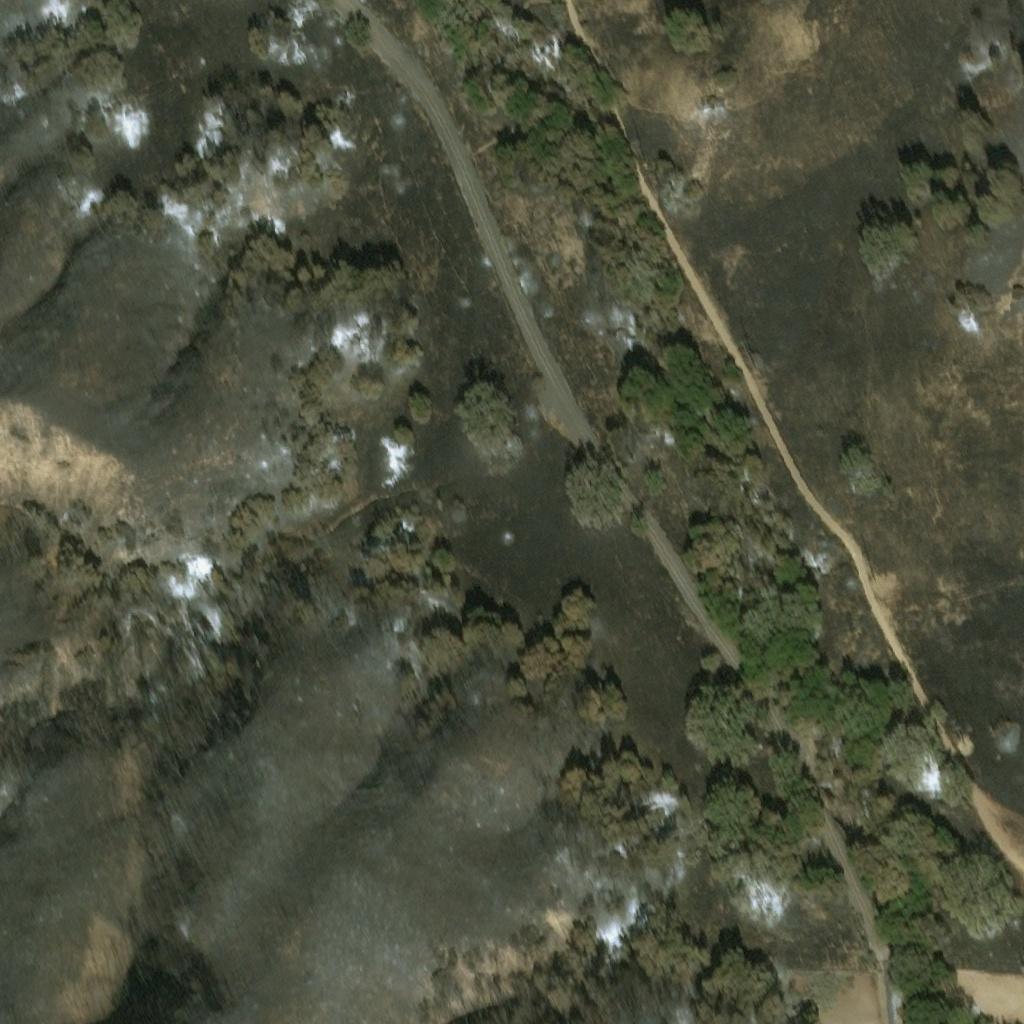4 un-classified: (892, 994, 905, 1015)
